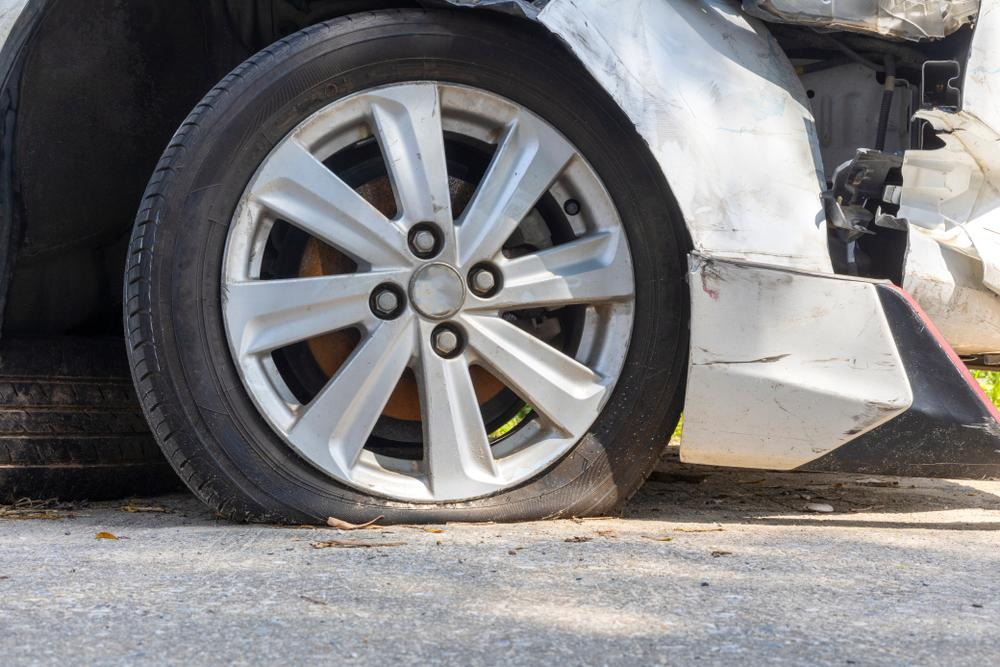crack: (934, 127, 972, 137)
scratch: (692, 255, 917, 438)
tire flat: (122, 3, 690, 526)
